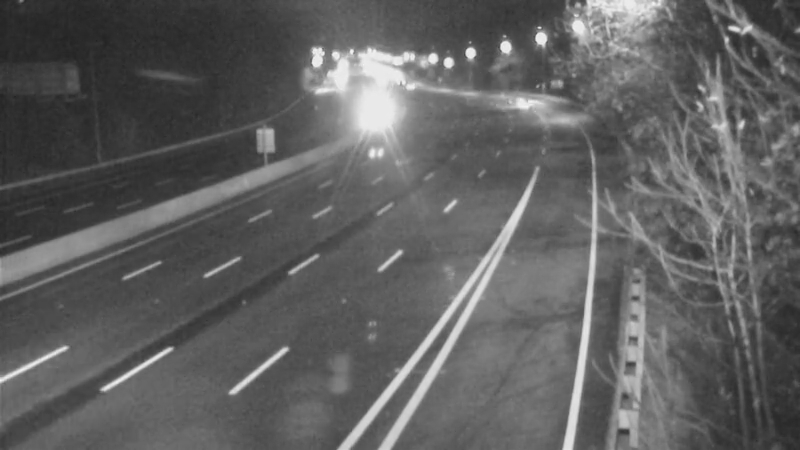vehicle: (384, 59, 434, 109), (499, 77, 549, 127), (352, 93, 402, 143)
